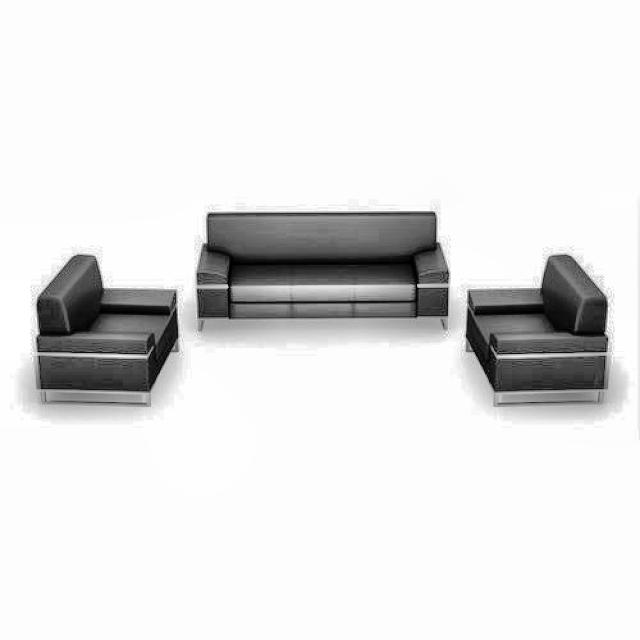sofa: (195, 208, 449, 332), (33, 252, 178, 406), (465, 252, 609, 406)
